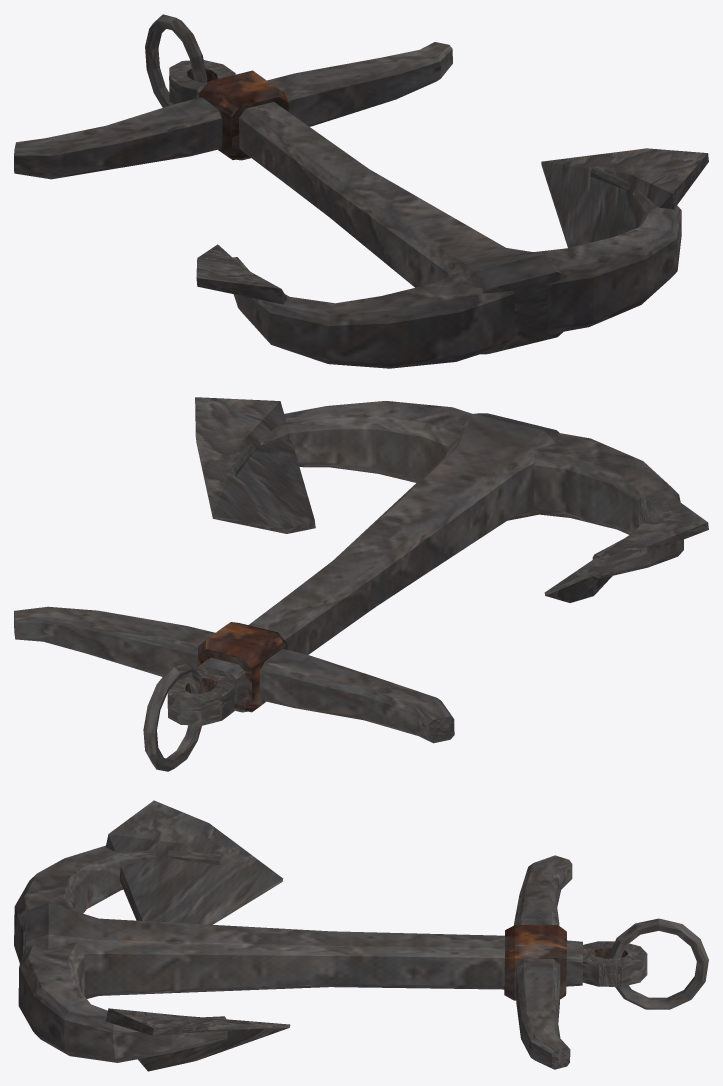
The model's file is Ancora-Pequena.glb.
3 views of the same model, one above another, from view 1: azimuth 30°, elevation 25°; view 2: azimuth 150°, elevation 25°; view 3: azimuth 270°, elevation 25° (orthographic). The views are drawn at different scales.
Parts seen in each view (by area): view 1: Âncora; view 2: Âncora; view 3: Âncora.
Boxes of the visible parts, x1,y1,x2,y2 form: Âncora: (14,14,708,368); Âncora: (14,397,708,771); Âncora: (14,800,708,1071).
Bounding box in the file's own units: 0.594 × 0.1159 × 0.7652.
2 materials, 2 textured.
